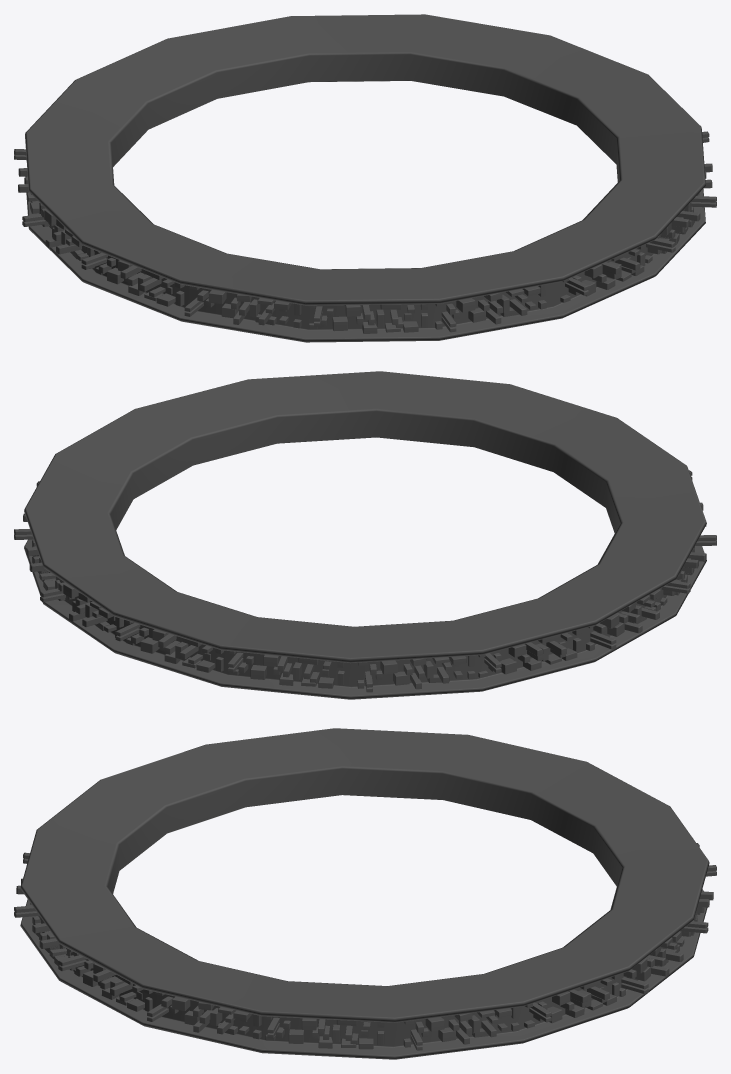
File: _Orbital_structure_01.fbx
3 views of the same model, one above another, from view 1: azimuth 30°, elevation 25°; view 2: azimuth 150°, elevation 25°; view 3: azimuth 270°, elevation 25° (orthographic).
Visible parts, largest first — view 1: Orbital_structure_01; view 2: Orbital_structure_01; view 3: Orbital_structure_01.
Part boxes in pixels (box(x1,y1,x2,y2)): Orbital_structure_01: box(14, 14, 716, 342); Orbital_structure_01: box(14, 371, 716, 699); Orbital_structure_01: box(14, 728, 716, 1059).
Size of the model in its own units: 3940 by 263 by 3940.
1 material, 1 textured.
